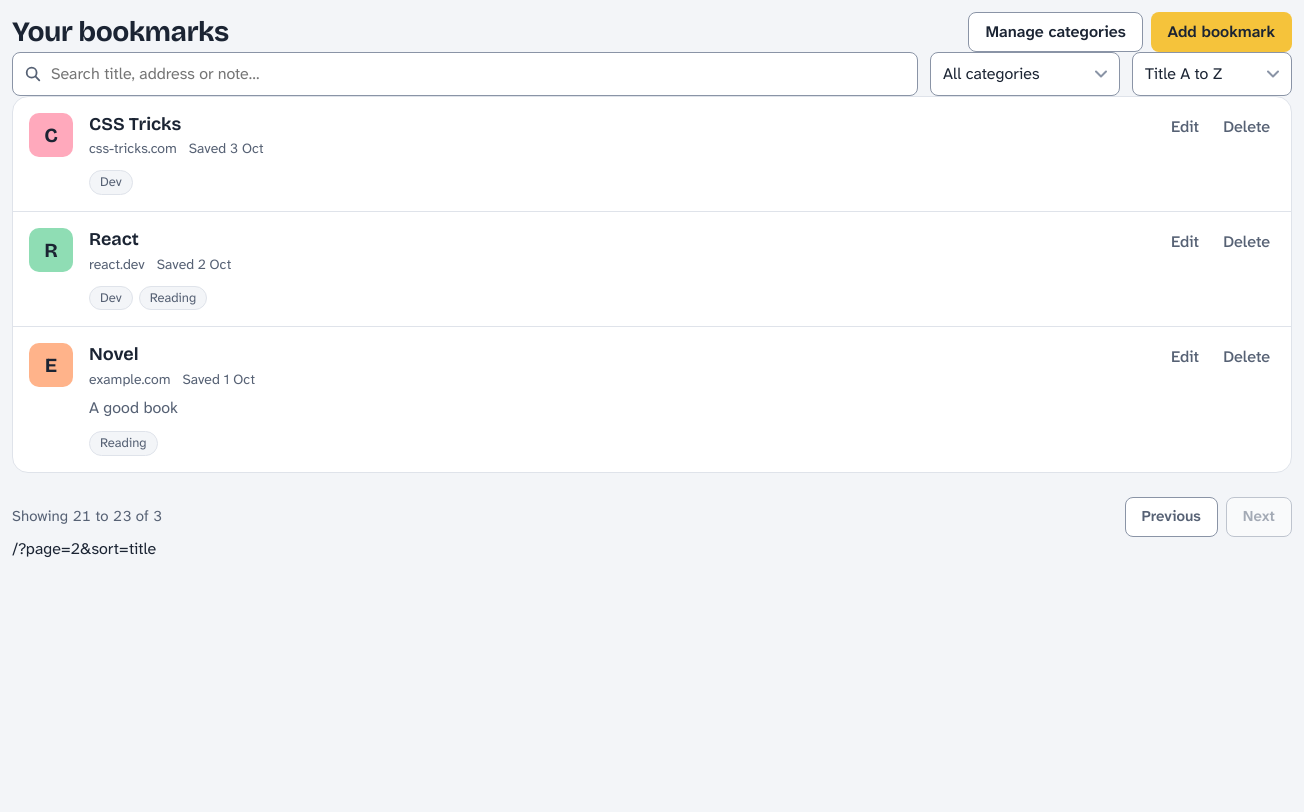
Scenario: category and sort › filters by category and goes back to page 1
The width and height of the screenshot is (1304, 812).
Step 1. Select "Dev" in the 1st dropdown named "Category" → (1025, 74), box top-left (930, 52), bottom-right (1120, 96)
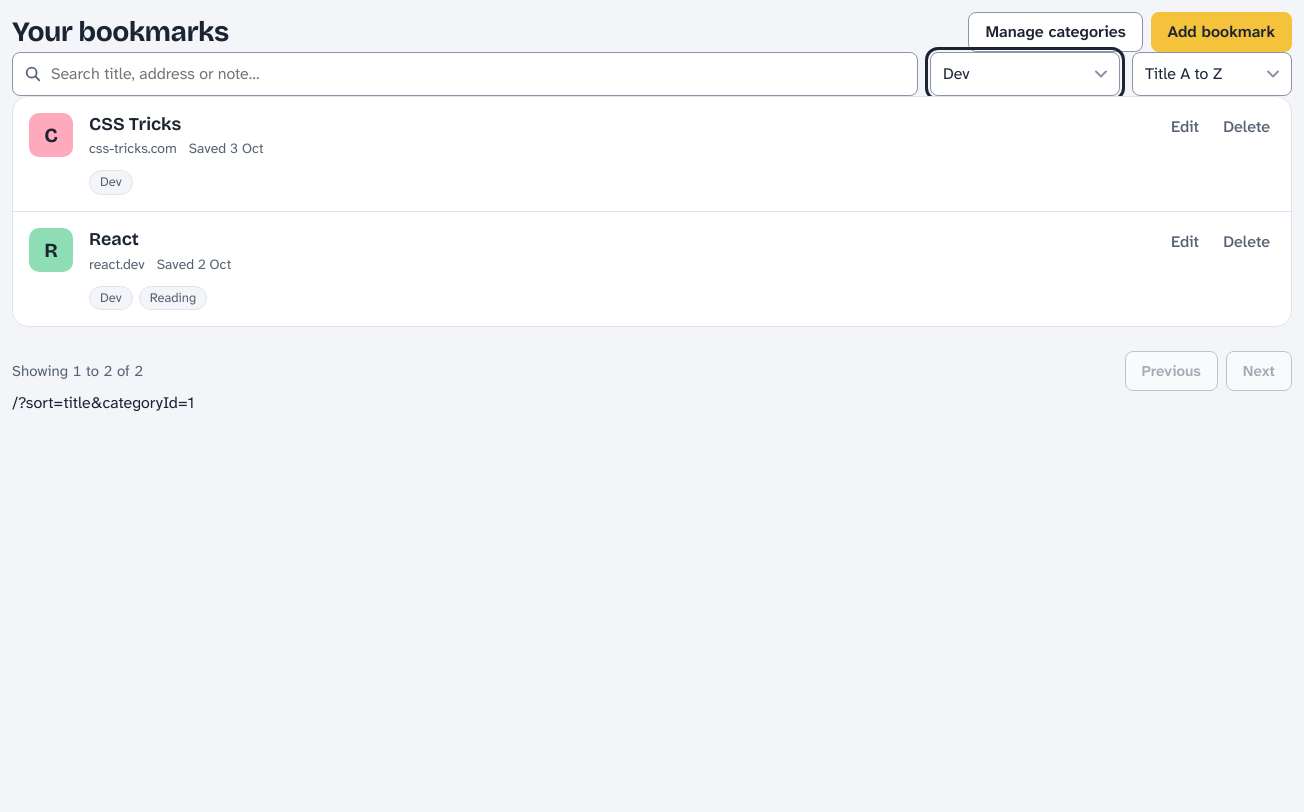
Now the text with test id "address" reads "/?sort=title&categoryId=1", box top-left (12, 392), bottom-right (194, 413)
Now the link "Novel" is gone
